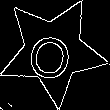O_N: (27, 22, 79, 81)
